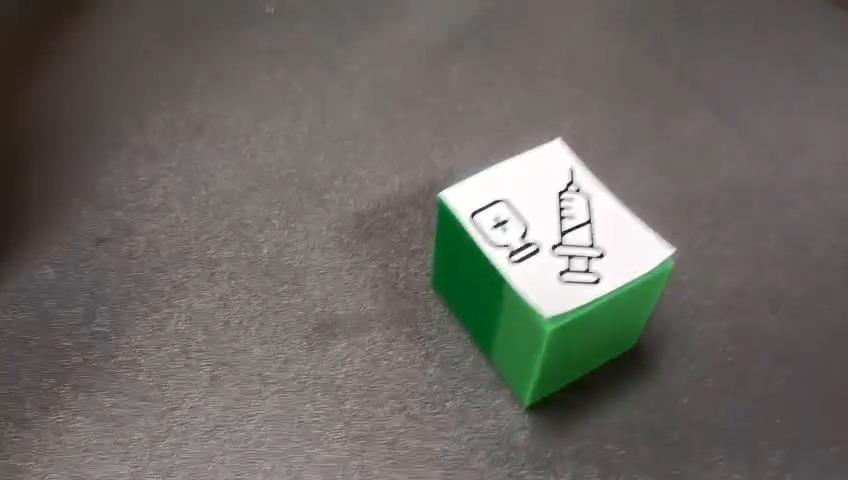antiseptic cream: (430, 134, 677, 410)
